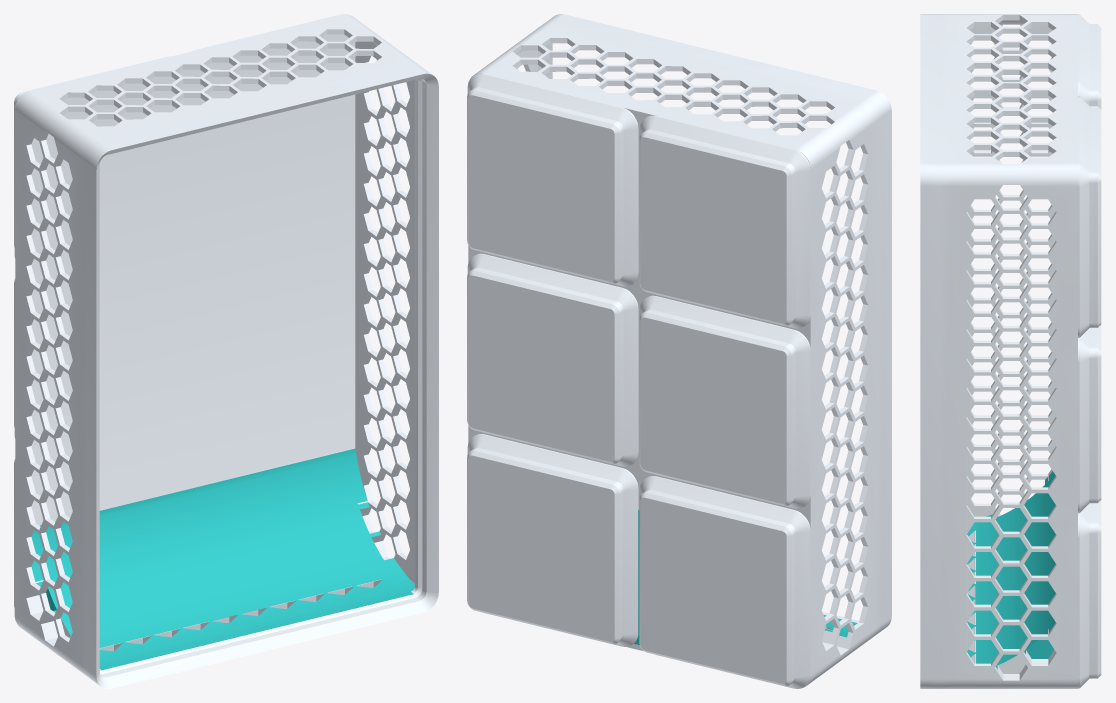
File: hero-honeycomb-caddy.glb
The picture shows the model from 3 angles, left to right: view 1: azimuth 30°, elevation 25°; view 2: azimuth 150°, elevation 25°; view 3: azimuth 270°, elevation 25°; orthographic projection. The views are drawn at different scales.
Bounding box in the file's own units: 83.5 × 126 × 39.4.
